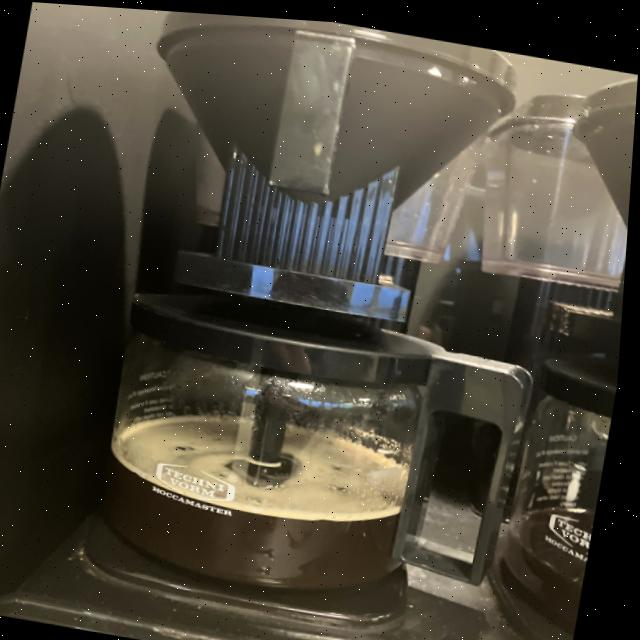coffee: (103, 273, 459, 604), (500, 330, 624, 621)
